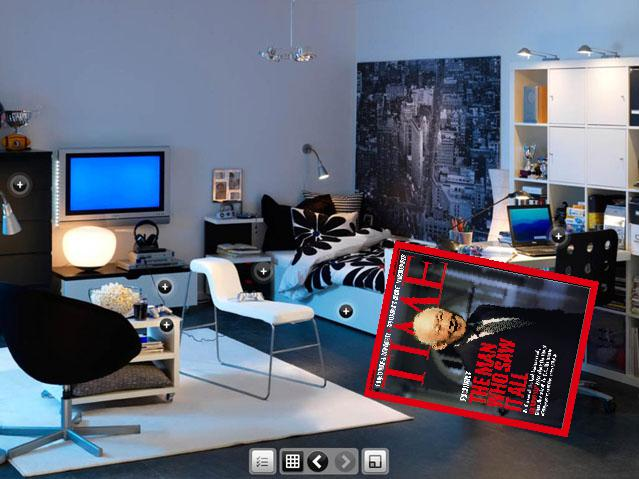times: (363, 239, 599, 438)
